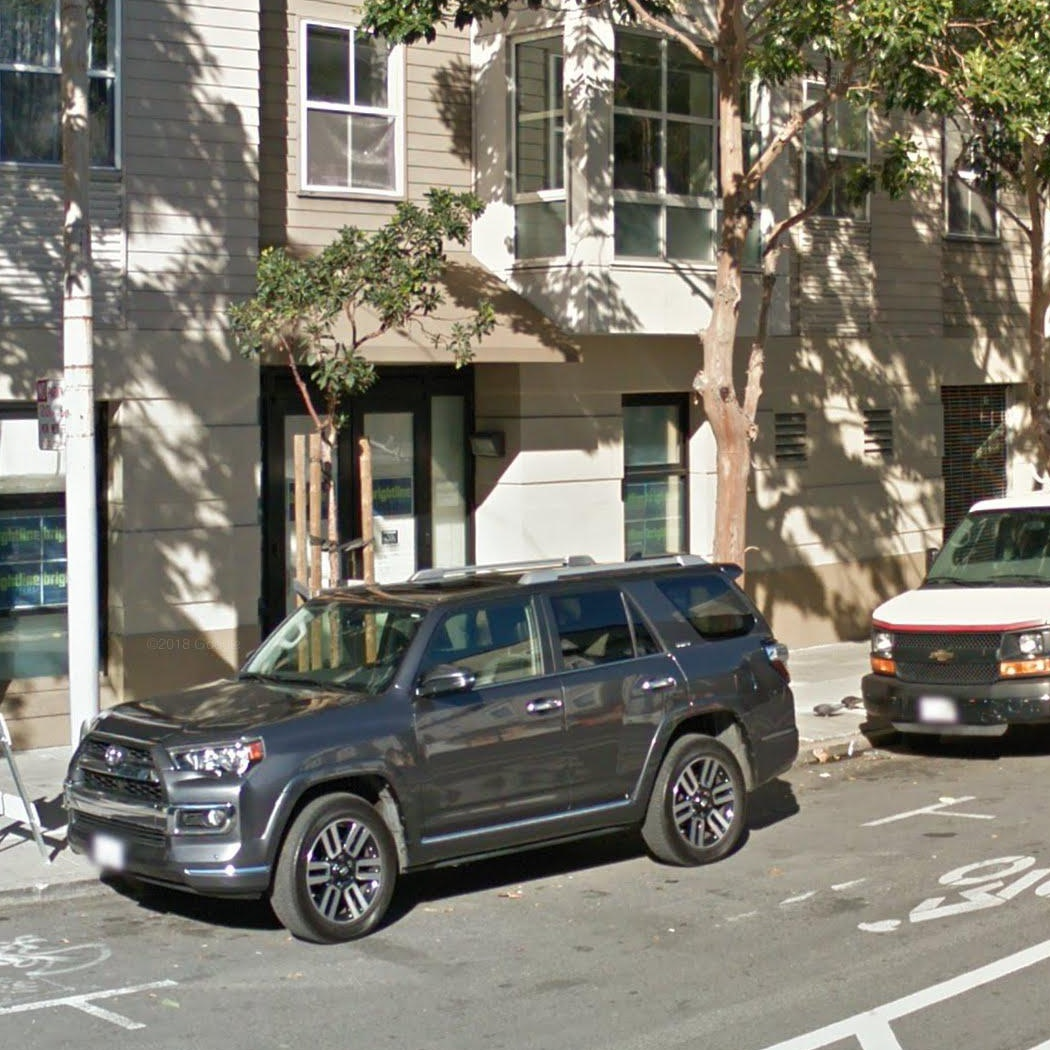No Parking: (35, 378, 68, 451)
